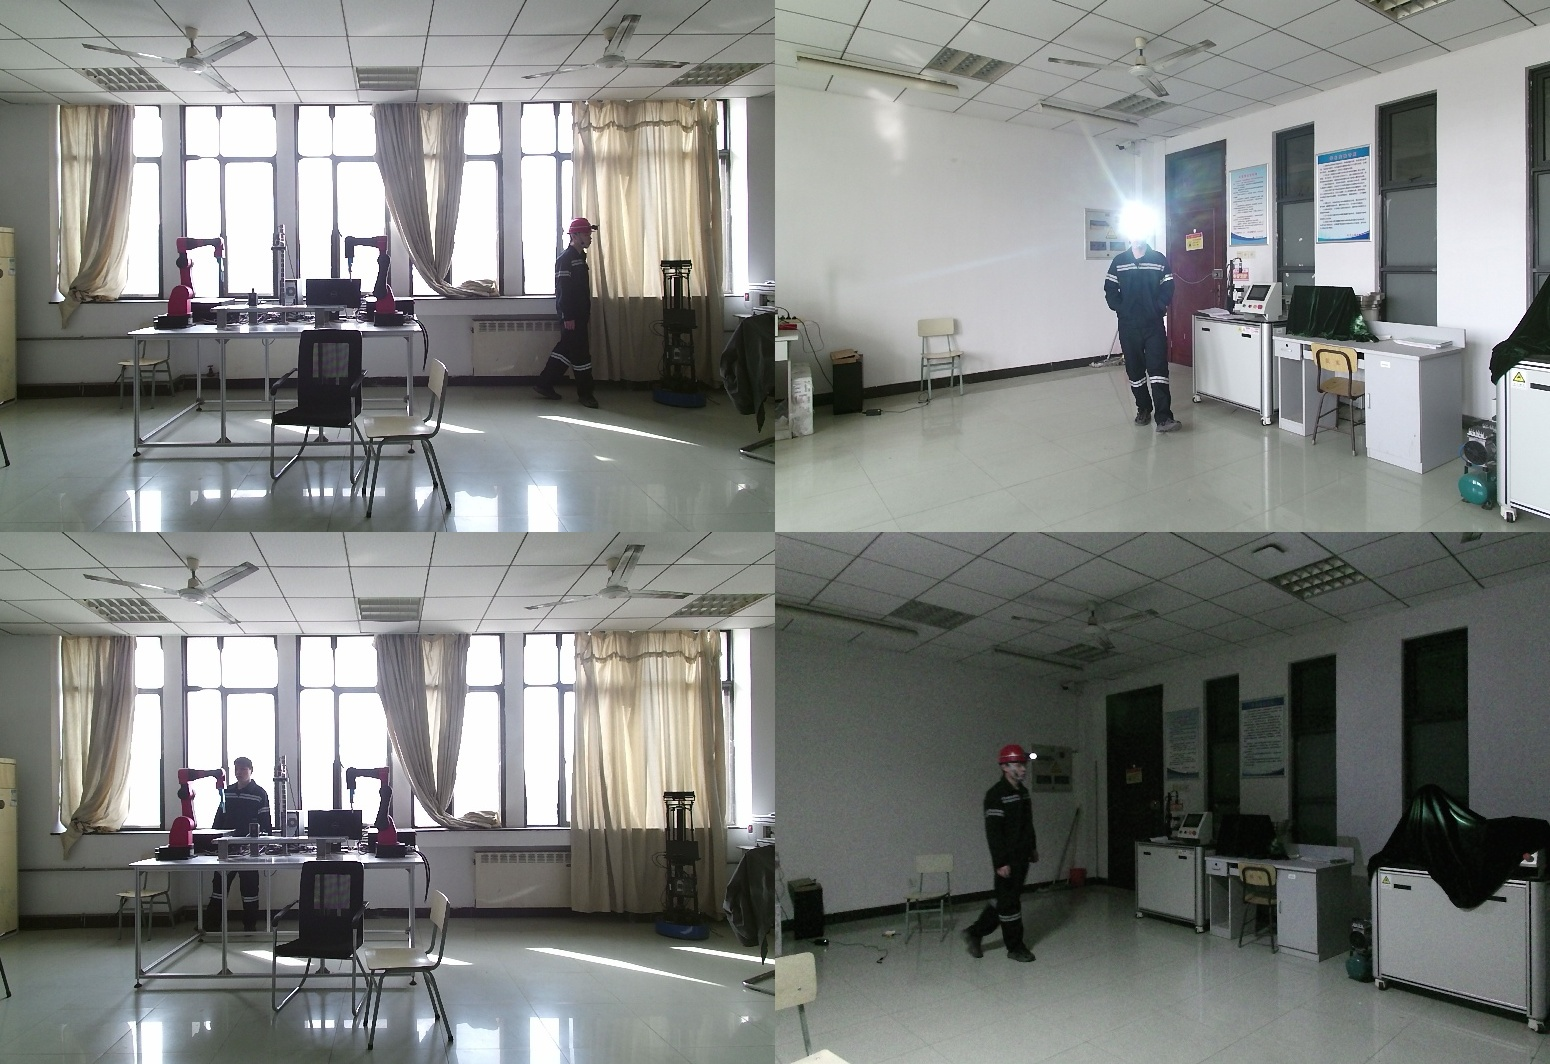person: (957, 747, 1039, 975), (1107, 225, 1181, 436), (199, 758, 272, 946), (538, 217, 604, 411)
